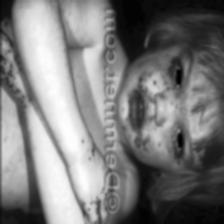Toxin: (0, 34, 30, 108), (128, 130, 174, 166), (142, 48, 170, 94), (76, 138, 96, 170)
